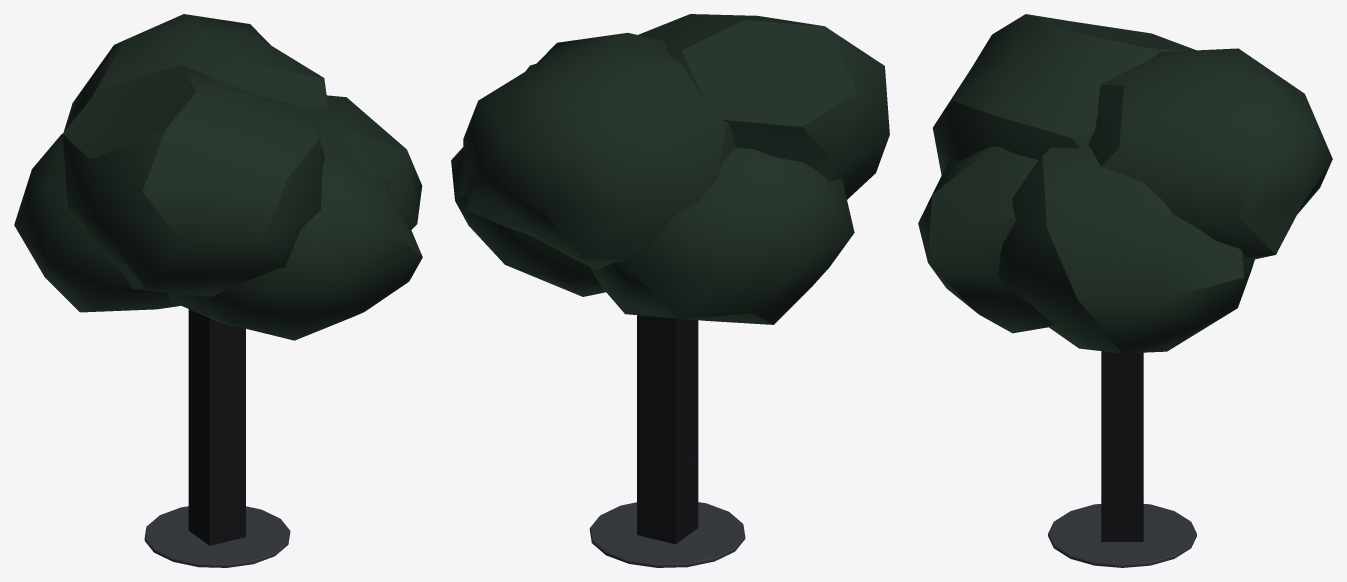
The model's file is kit_street_tree.glb.
The picture shows the model from 3 angles, left to right: view 1: azimuth 30°, elevation 25°; view 2: azimuth 150°, elevation 25°; view 3: azimuth 270°, elevation 25°; orthographic projection. The views are drawn at different scales.
Parts seen in each view (by area): view 1: tr_canopy3, tr_canopy4, tr_COL, tr_canopy1, tr_canopy2, tr_canopy0, tr_grate; view 2: tr_canopy1, tr_canopy2, tr_canopy3, tr_COL, tr_grate, tr_canopy0; view 3: tr_canopy0, tr_canopy1, tr_canopy3, tr_canopy4, tr_COL, tr_grate.
Part boxes in pixels (box(x1,y1,x2,y2)): tr_canopy3: box(62, 65, 324, 296); tr_canopy4: box(168, 149, 422, 340); tr_COL: box(188, 309, 245, 545); tr_canopy1: box(64, 14, 328, 131); tr_canopy2: box(14, 134, 180, 312); tr_canopy0: box(312, 95, 422, 229); tr_grate: box(144, 506, 290, 567); tr_canopy1: box(463, 32, 736, 269); tr_canopy2: box(590, 148, 854, 324); tr_canopy3: box(638, 14, 889, 199); tr_COL: box(637, 315, 698, 544); tr_grate: box(589, 502, 745, 567); tr_canopy0: box(451, 64, 605, 296); tr_canopy0: box(998, 146, 1254, 353); tr_canopy1: box(1088, 48, 1332, 259); tr_canopy3: box(932, 14, 1195, 175); tr_canopy4: box(918, 146, 1054, 333); tr_COL: box(1101, 351, 1143, 541); tr_grate: box(1048, 504, 1196, 567).
Bounding box in the file's own units: 3.9 × 5 × 3.89.
Materials: 4 (4 with a texture image).
